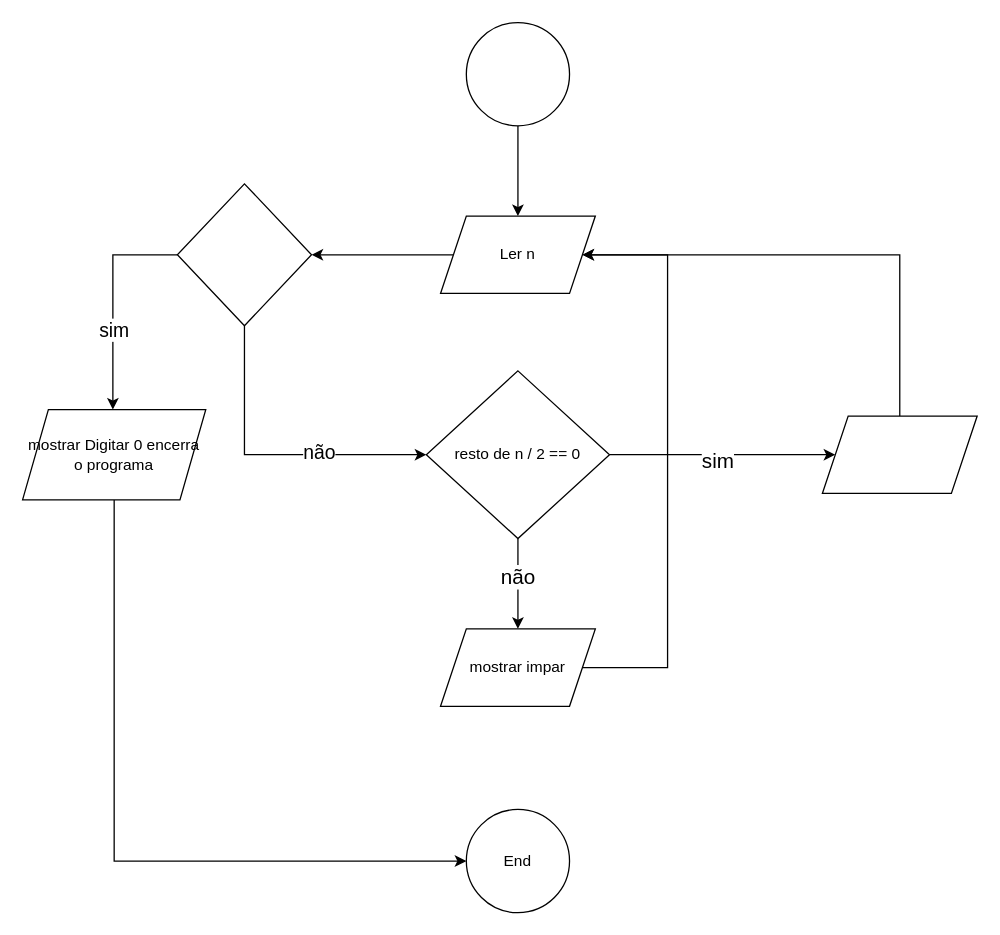
The diagram is 1000 pixels wide and 935 high, and some of its shapes have lost their labels. Here are the shapes that lost their labels. From the top down, the centre of each, then its label:
At (x=517, y=73): "inicio".
At (x=244, y=254): "n = 0".
At (x=899, y=454): "mostrar par".
